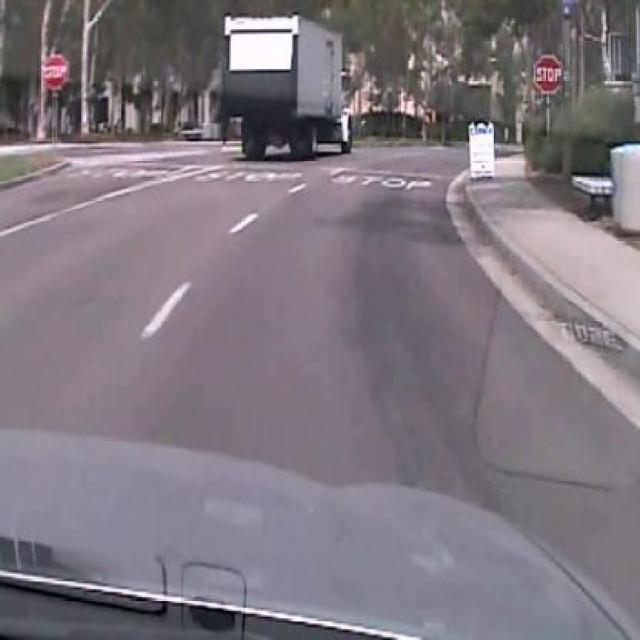stop: (532, 52, 563, 97)
